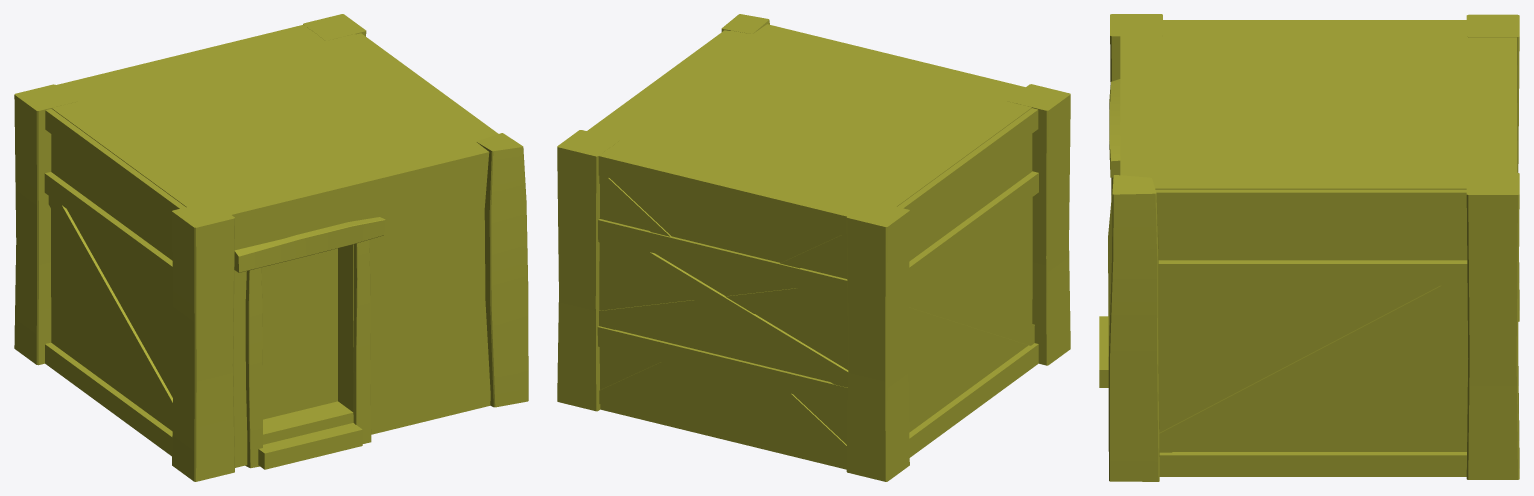
Rendered from House1v1.fbx.
The picture shows the model from 3 angles, left to right: view 1: azimuth 30°, elevation 25°; view 2: azimuth 150°, elevation 25°; view 3: azimuth 270°, elevation 25°; orthographic projection. The views are drawn at different scales.
Visible parts, largest first — view 1: House1v1; view 2: House1v1; view 3: House1v1.
Boxes of the visible parts, left/top/right/bottom form: House1v1: left=14, top=14, right=528, bottom=481; House1v1: left=557, top=14, right=1070, bottom=481; House1v1: left=1099, top=14, right=1519, bottom=481.
Bounding box in the file's own units: 551 × 410 × 535.
